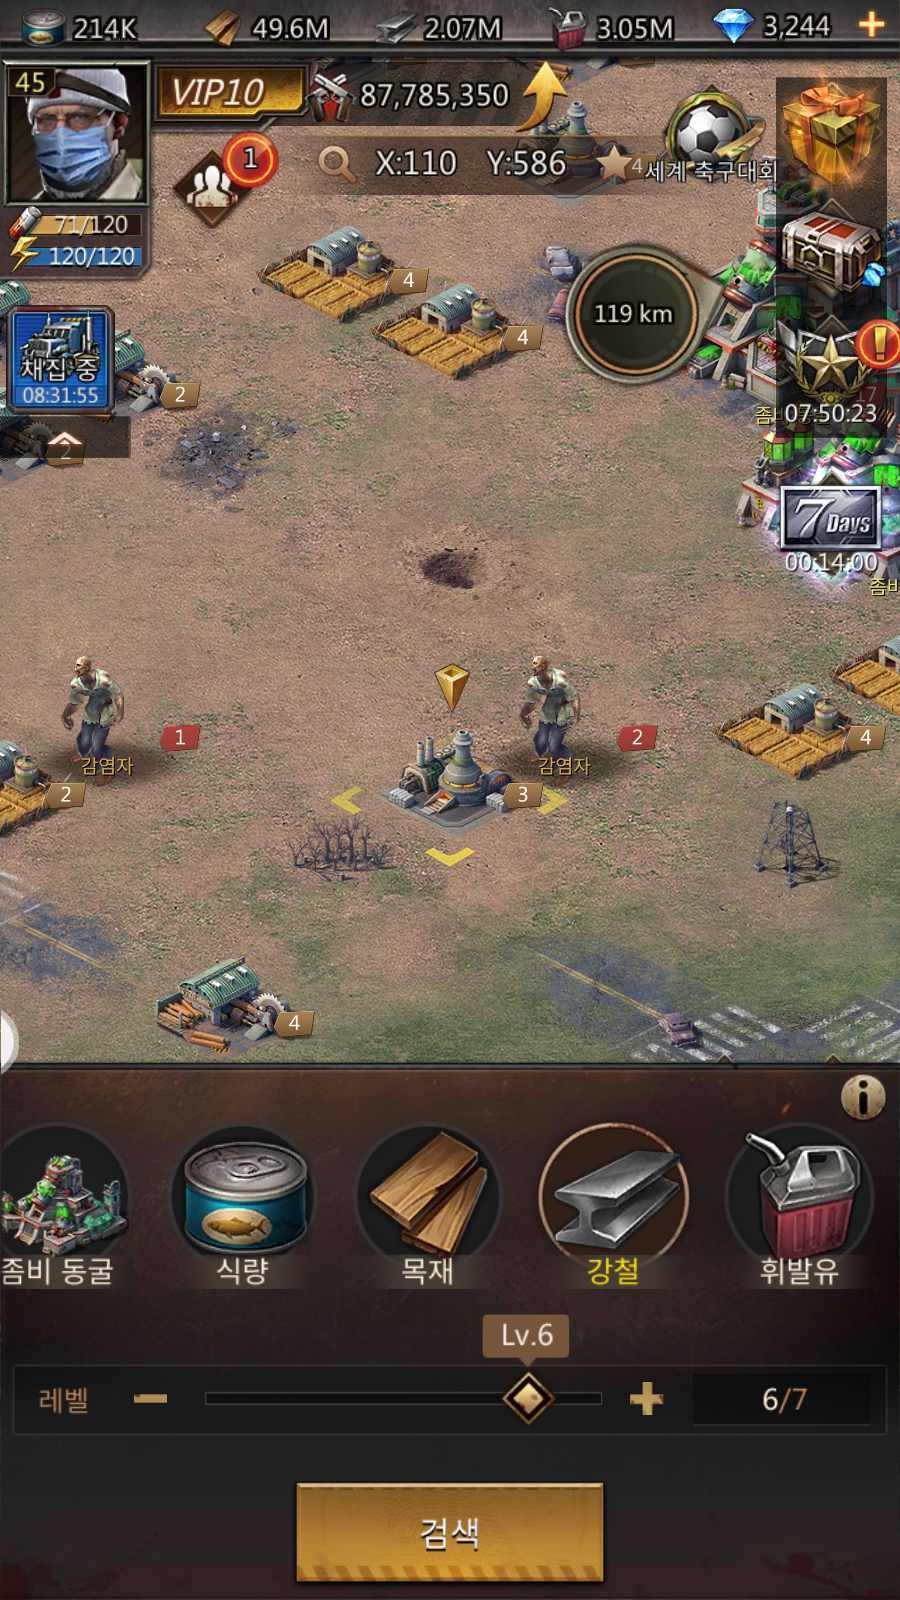empty_steel: (316, 655, 587, 876)
rss_food_in_panel: (173, 1122, 319, 1298)
rss_gas_in_panel: (729, 1122, 882, 1296)
rss_lv6: (475, 1313, 575, 1358)
rss_minus_in_panel: (118, 1376, 182, 1422)
rss_plus_in_panel: (616, 1369, 675, 1422)
rss_search_in_panel: (296, 1482, 605, 1578)
rss_steel_in_panel: (533, 1122, 697, 1295)
rss_wood_in_panel: (355, 1119, 501, 1290)
troops_cnt_1: (164, 125, 287, 245)
